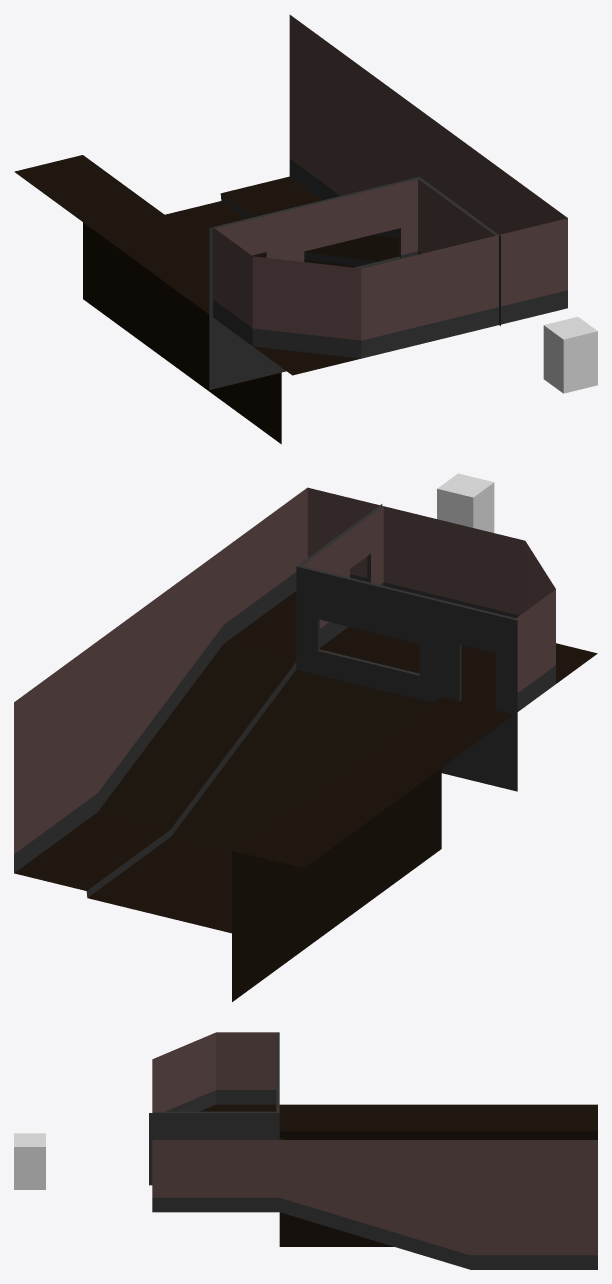
File: FBX_Theatre.fbx
3 renders of one model, top to bottom at view 1: azimuth 30°, elevation 25°; view 2: azimuth 150°, elevation 25°; view 3: azimuth 270°, elevation 25°, orthographic. The views are drawn at different scales.
Visible parts, largest first — view 1: Plane, Plane.001, Cube.001; view 2: Plane, Plane.001, Cube.001; view 3: Plane, Plane.001, Cube.001.
Part boxes in pixels (<box>): Plane: <box>83,14,567,444</box>; Plane.001: <box>14,155,360,375</box>; Cube.001: <box>543,316,597,393</box>; Plane: <box>14,487,555,1001</box>; Plane.001: <box>224,591,597,868</box>; Cube.001: <box>437,473,494,532</box>; Plane: <box>149,1032,597,1269</box>; Plane.001: <box>200,1104,597,1131</box>; Cube.001: <box>14,1133,45,1189</box>.
Size of the model in its own units: 325 by 405 by 917.
